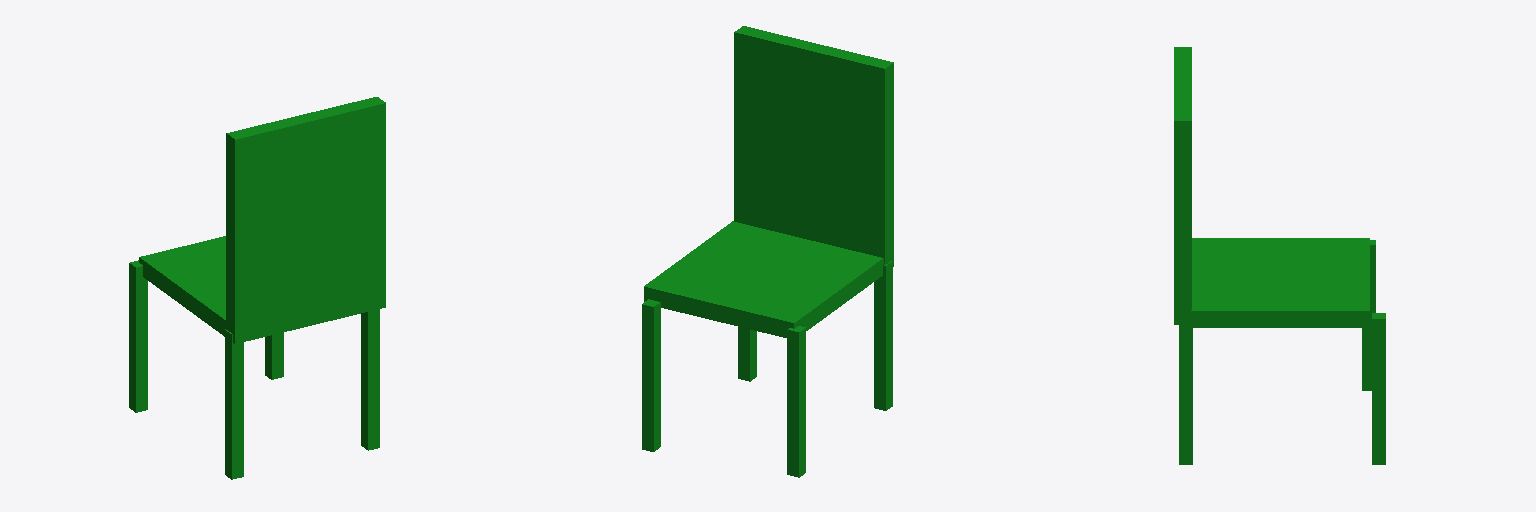
The model's file is cadeira_20260207213414.obj.
3 views of the same model, side by side, from view 1: azimuth 30°, elevation 25°; view 2: azimuth 150°, elevation 25°; view 3: azimuth 270°, elevation 25° (orthographic).
Parts seen in each view (by area): view 1: cadeira.001, Cubo.001; view 2: cadeira.001, Cubo.001; view 3: cadeira.001, Cubo.001.
Part boxes in pixels (x1,y1,x2,y2): cadeira.001: (139, 97, 385, 343); Cubo.001: (129, 260, 379, 479); cadeira.001: (644, 26, 893, 337); Cubo.001: (642, 261, 892, 477); cadeira.001: (1174, 47, 1369, 327); Cubo.001: (1179, 240, 1385, 464).
Size of the model in its own units: 2.12 by 4.42 by 2.45.